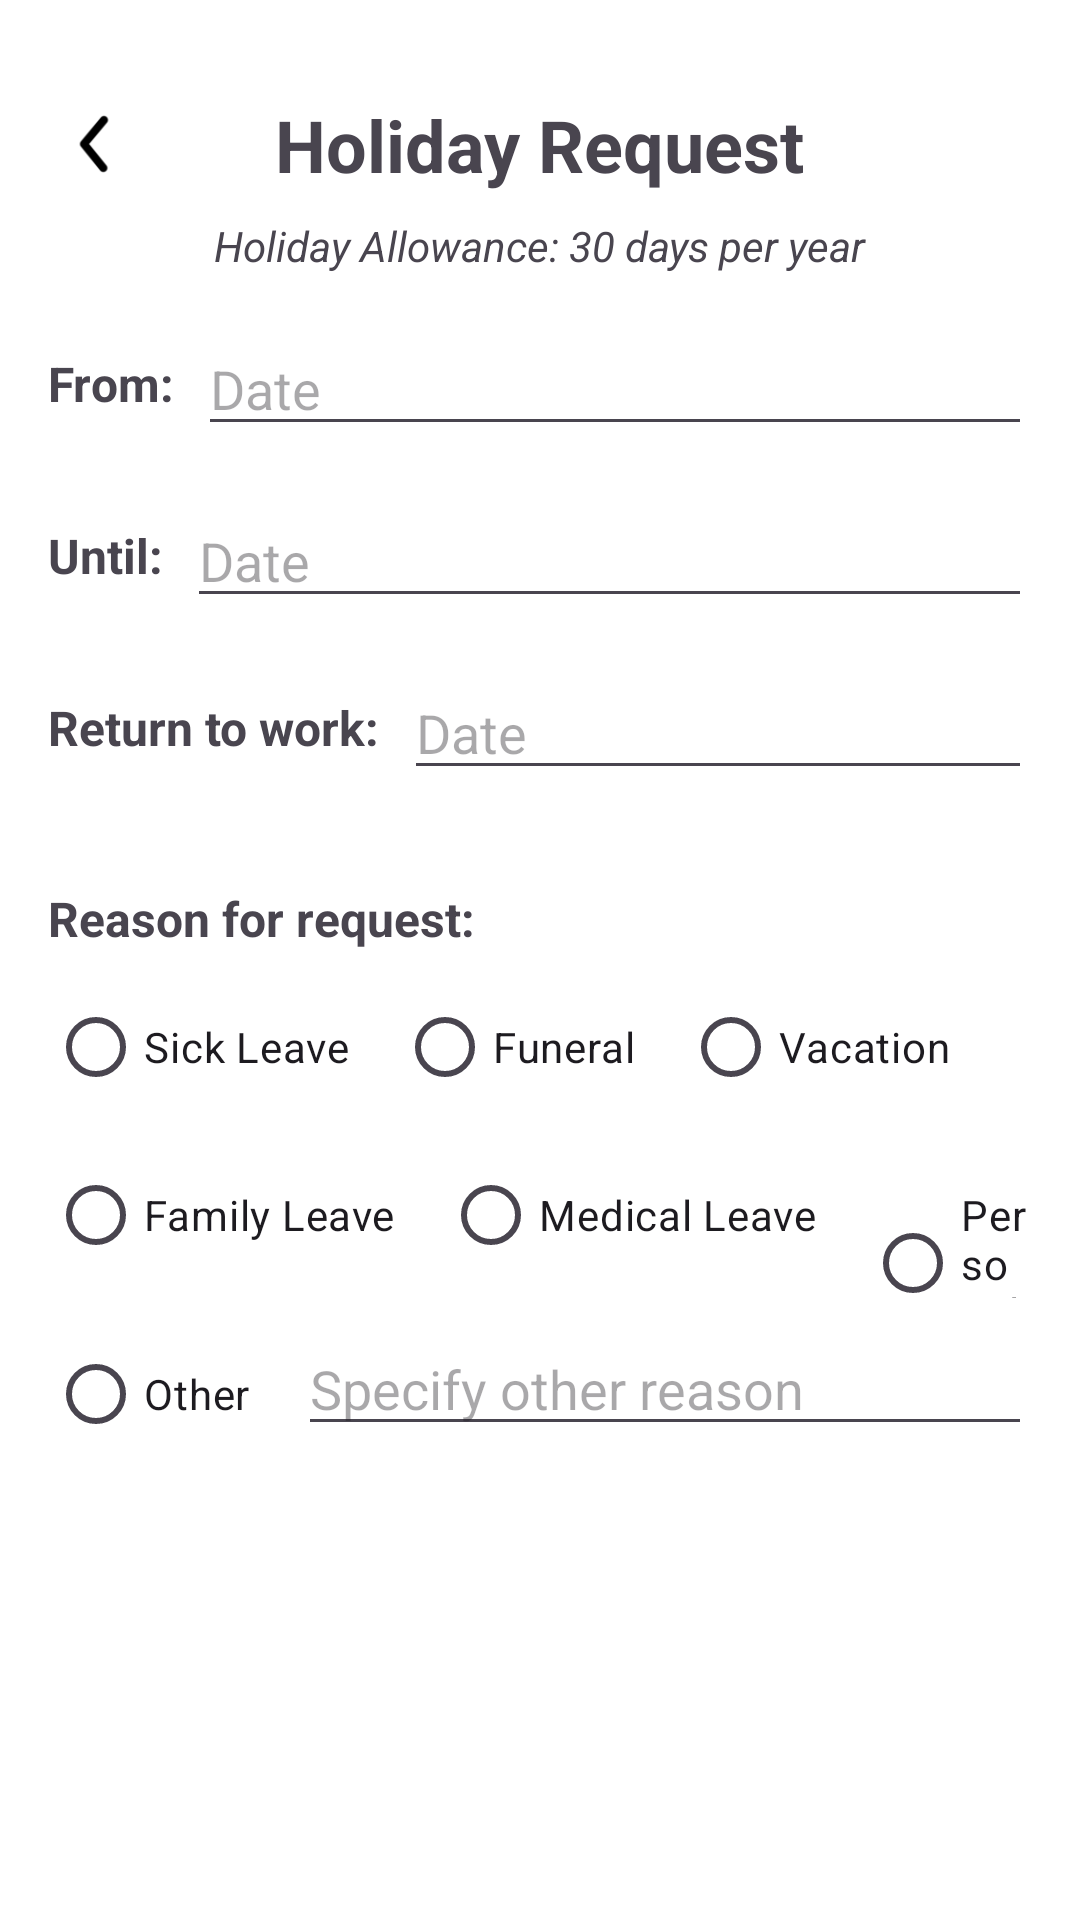

Icon click points for this 1080px×1920px phone screenshot, format (x=x, y=y):
Back: (x=94, y=144)
